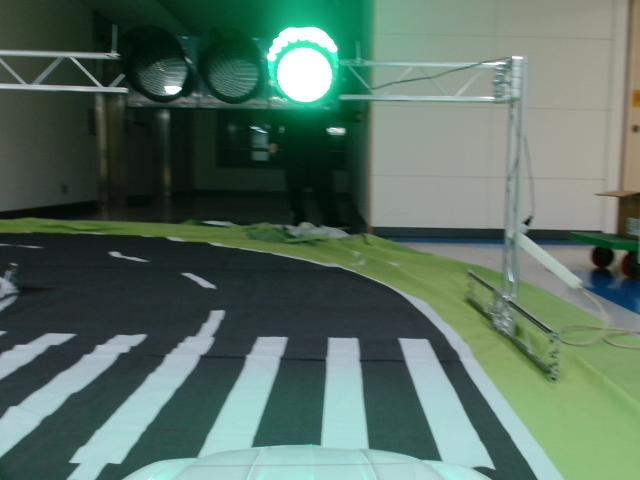crosswalk: (1, 327, 496, 471)
traffic light-green-: (124, 27, 342, 111)
